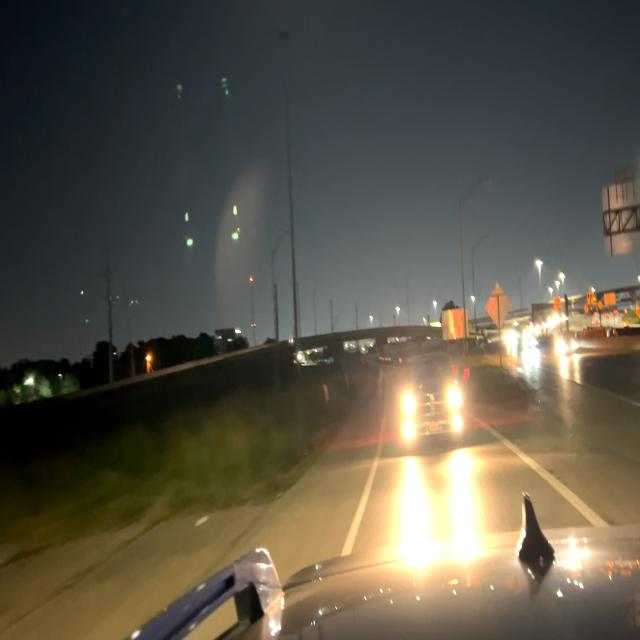back-of-sign: (487, 283, 510, 329), (443, 307, 468, 340)
